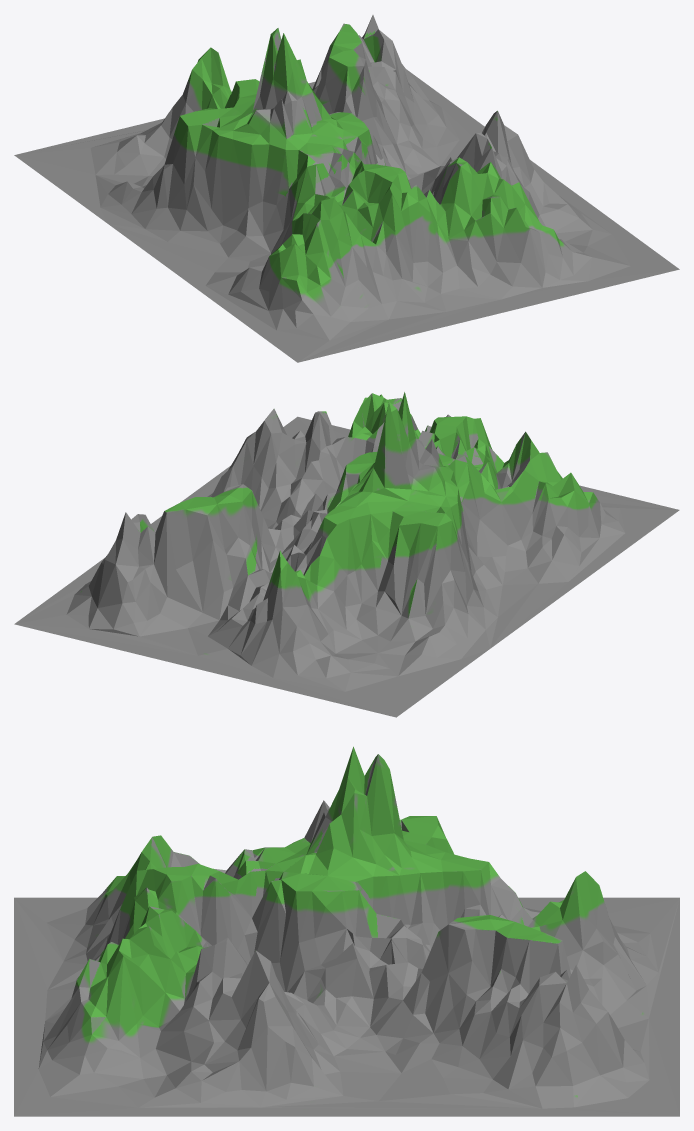
The model's file is grey.fbx.
3 views of the same model, one above another, from view 1: azimuth 30°, elevation 25°; view 2: azimuth 150°, elevation 25°; view 3: azimuth 270°, elevation 25° (orthographic). The views are drawn at different scales.
Visible parts, largest first — view 1: Landscape; view 2: Landscape; view 3: Landscape.
Part boxes in pixels (x1,y1,x2,y2): Landscape: [14, 15, 679, 362]; Landscape: [14, 392, 679, 717]; Landscape: [14, 746, 679, 1116].
Bounding box in the file's own units: 384 × 185 × 493.
Materials: 1 (1 with a texture image).
